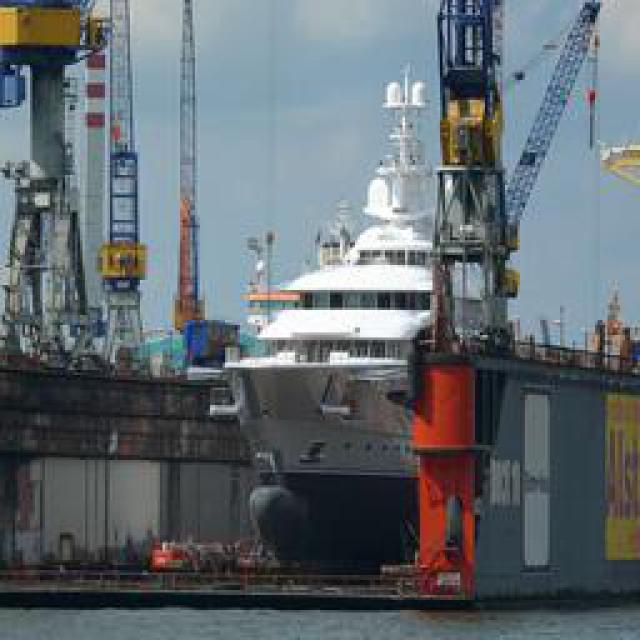Ship: (233, 137, 448, 535)
